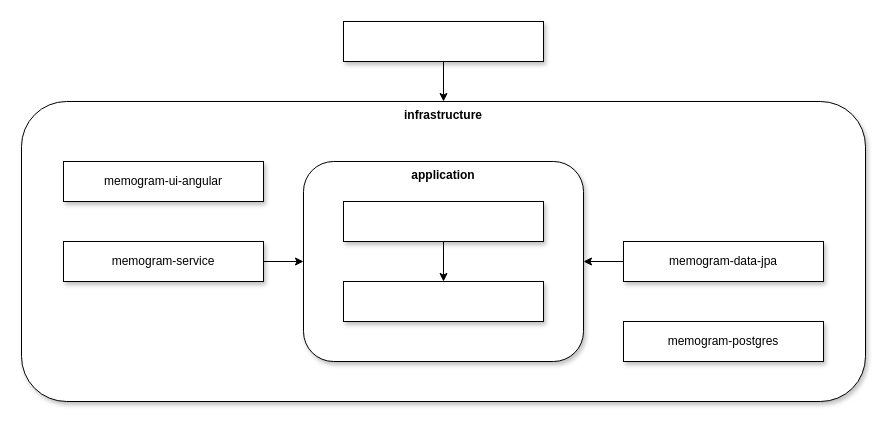
Some shapes in this 889 by 426 pixel diagram are drawn without their labels. Each missing label, with the centre of its shape:
"memogram-app-postgres" belongs at (x=444, y=42).
"memogram-business" belongs at (x=444, y=222).
"memogram-domain" belongs at (x=444, y=302).
